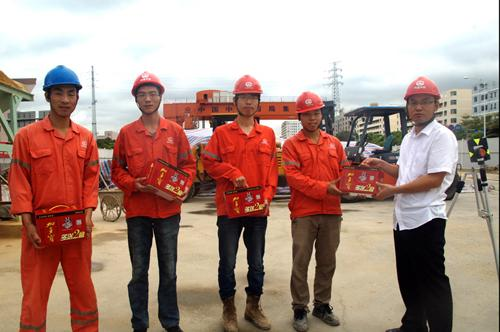boots: (244, 294, 271, 330), (312, 302, 340, 325), (222, 296, 238, 332), (293, 307, 309, 331), (164, 325, 184, 332)
hard-hat: (43, 65, 82, 91), (403, 75, 441, 99), (131, 71, 164, 95), (295, 91, 325, 114), (231, 74, 263, 94)
person: (360, 76, 458, 332), (8, 65, 100, 332), (110, 71, 197, 332), (200, 74, 278, 332), (280, 90, 363, 332)
ppe-suit: (8, 114, 101, 331)
vest: (109, 114, 188, 217), (200, 117, 271, 212), (281, 127, 341, 217)
